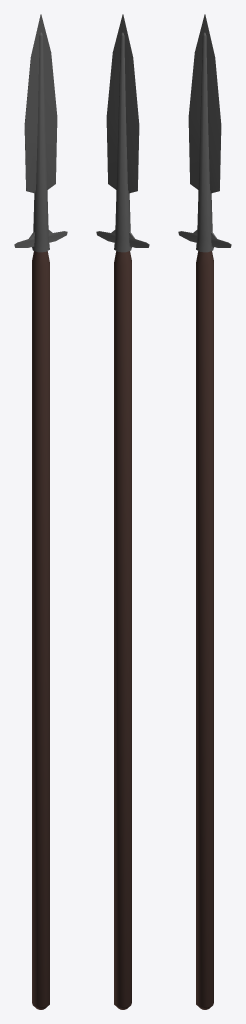
Rendered from spear.gltf.
3 views of the same model, side by side, from view 1: azimuth 30°, elevation 25°; view 2: azimuth 150°, elevation 25°; view 3: azimuth 330°, elevation 25° (orthographic).
Visible parts, largest first — view 1: Cylinder.003, Cylinder.001; view 2: Cylinder.003, Cylinder.001; view 3: Cylinder.003, Cylinder.001.
Part boxes in pixels (x1,y1,x2,y2): Cylinder.003: (32,251,49,1009); Cylinder.001: (14,14,67,252); Cylinder.003: (114,251,131,1009); Cylinder.001: (96,14,149,252); Cylinder.003: (196,251,213,1009); Cylinder.001: (178,14,231,252).
Size of the model in its own units: 0.0952 by 1.71 by 0.0293.
